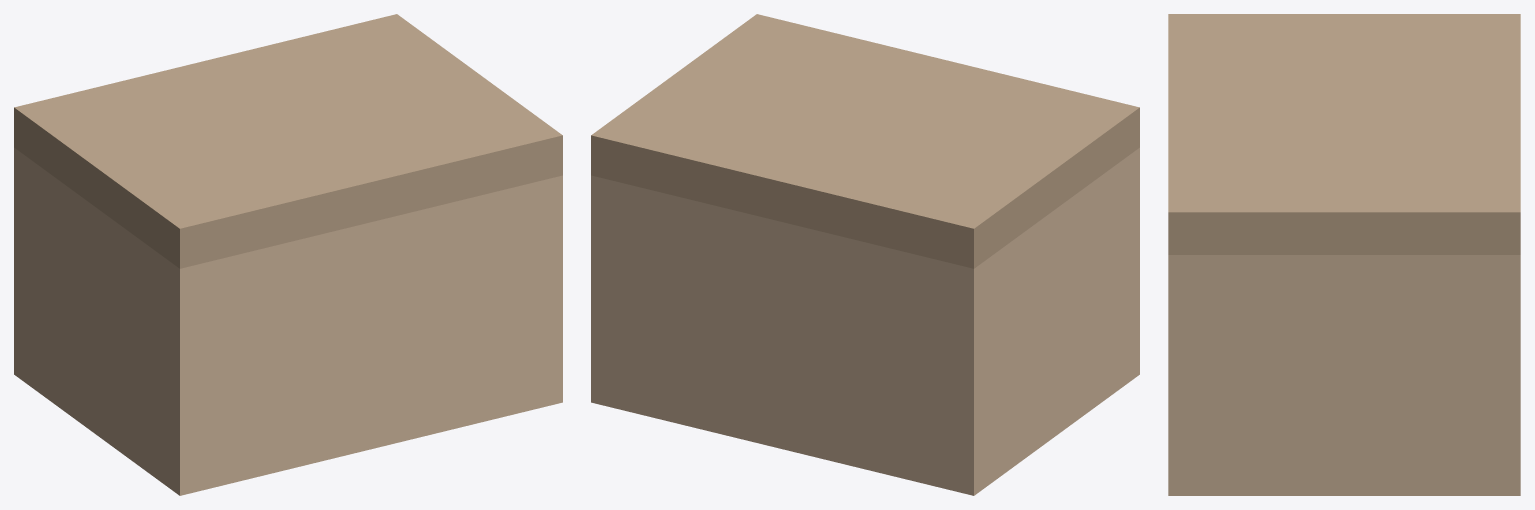
Rendered from caixa_papelao.fbx.
3 views of the same model, side by side, from view 1: azimuth 30°, elevation 25°; view 2: azimuth 150°, elevation 25°; view 3: azimuth 270°, elevation 25° (orthographic). The views are drawn at different scales.
Visible parts, largest first — view 1: caixa_papelao; view 2: caixa_papelao; view 3: caixa_papelao.
Boxes of the visible parts, x1,y1,x2,y2 form: caixa_papelao: (14,14,562,495); caixa_papelao: (591,14,1139,495); caixa_papelao: (1168,14,1520,495).
Size of the model in its own units: 60 by 40 by 45.
